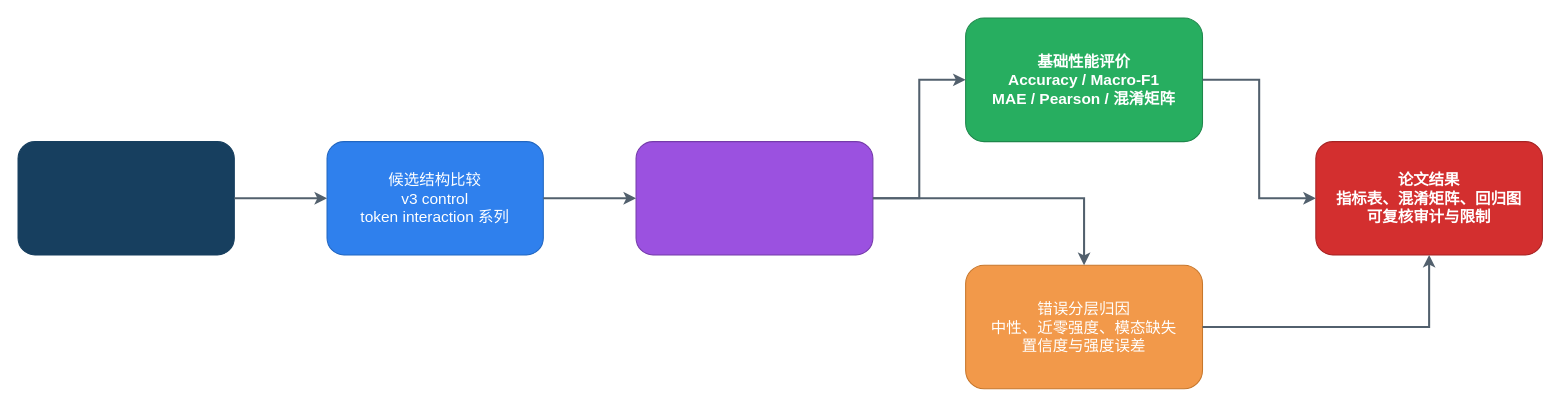
Image size: 1560x407. Some labels were removed from this diagram. The centre of each missing label's shape, as x and y in pixels:
"官方 aligned_50 固定 3395 / 728 按视频分组无重叠" goes at (x=125, y=198).
"重复种子与部署选择 2026 / 2027 / 2028 模型、种子、偏置比较" goes at (x=754, y=198).
